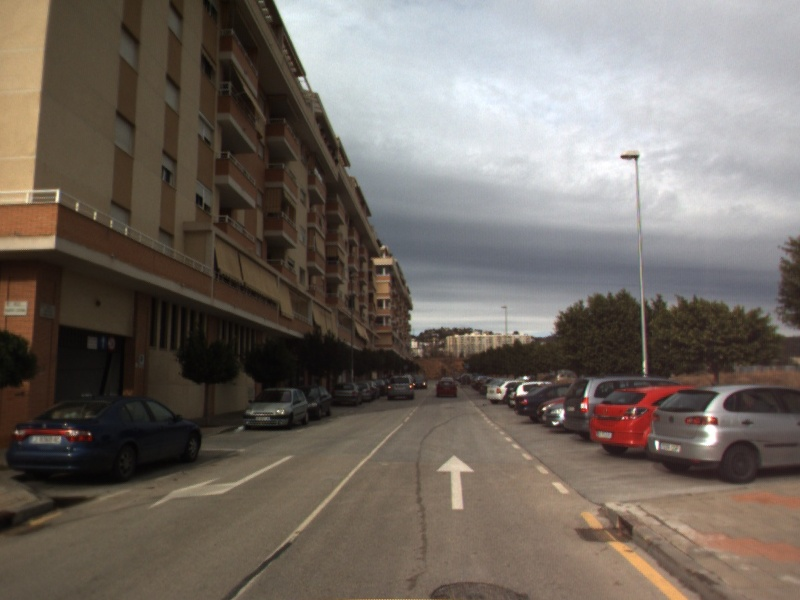STRAIGHT: (434, 453, 476, 511)
